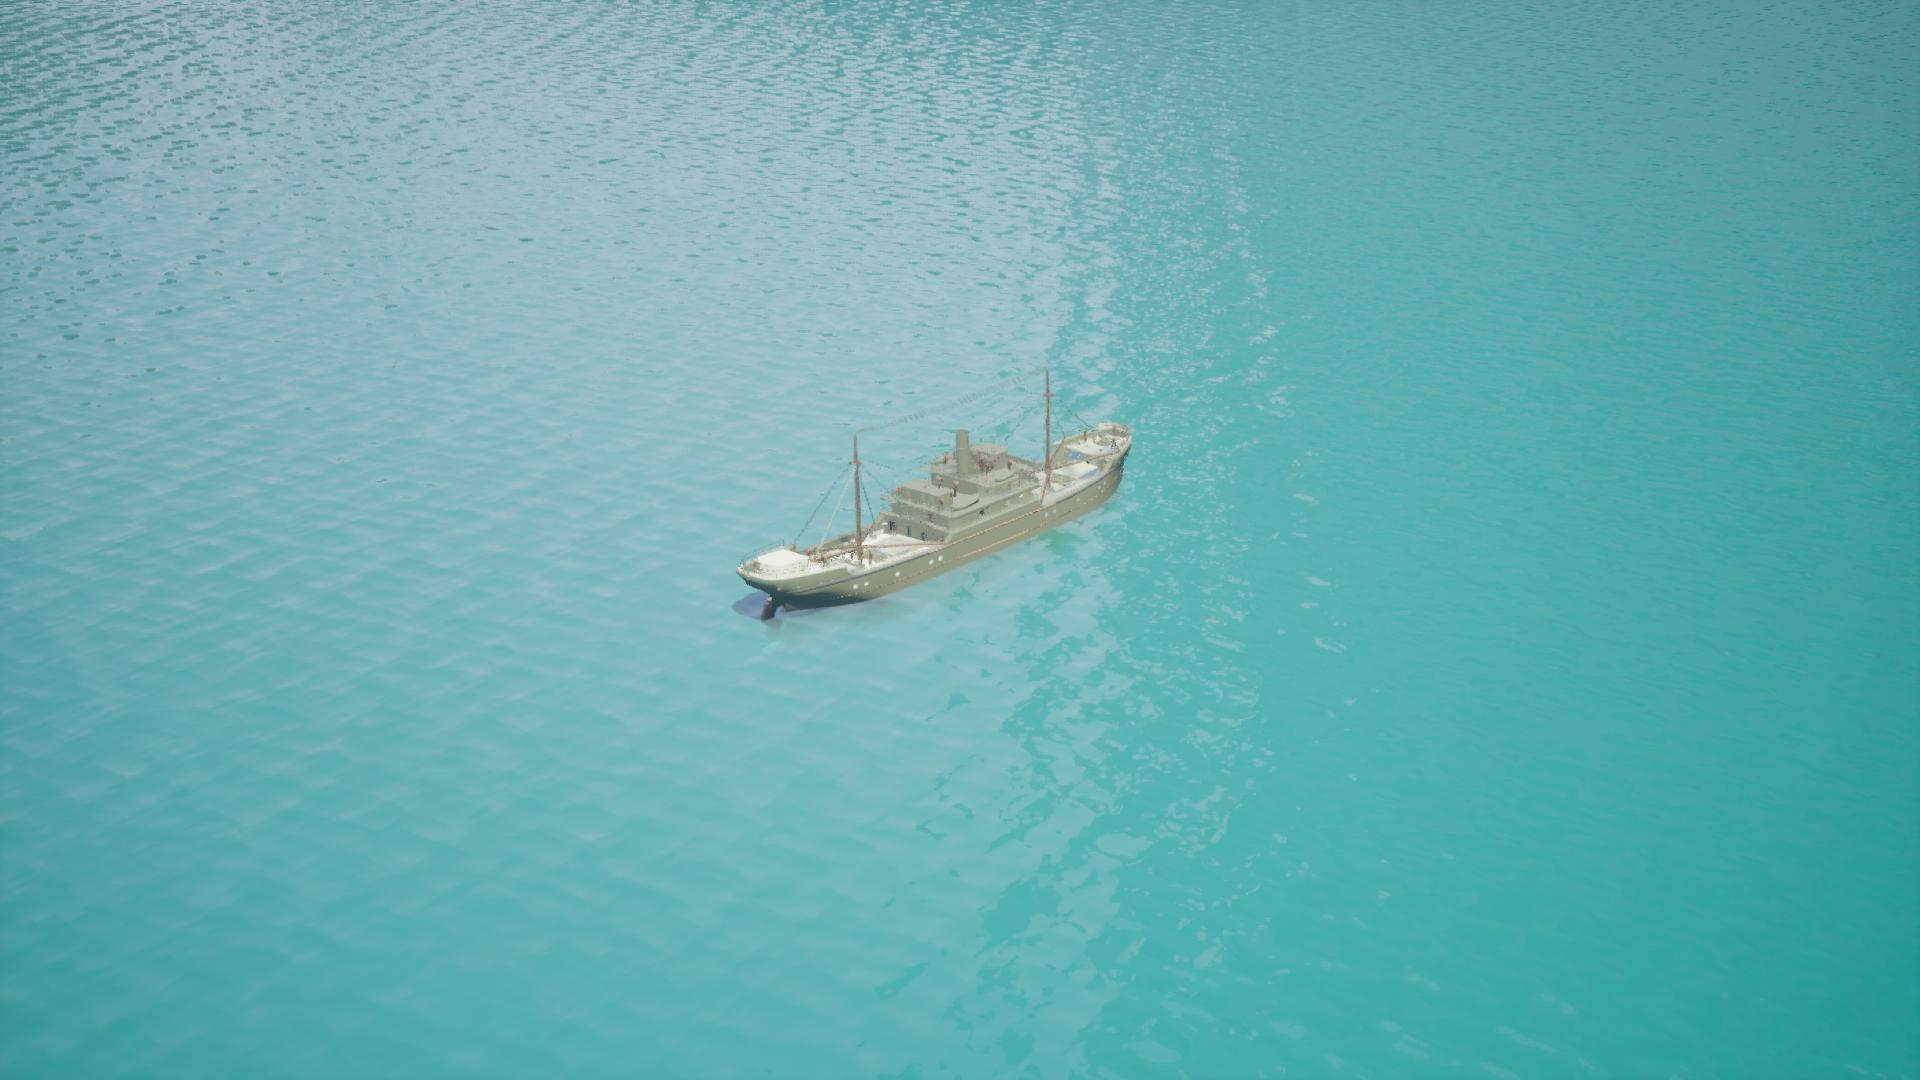Fishing Boat: (735, 427, 1135, 620)
